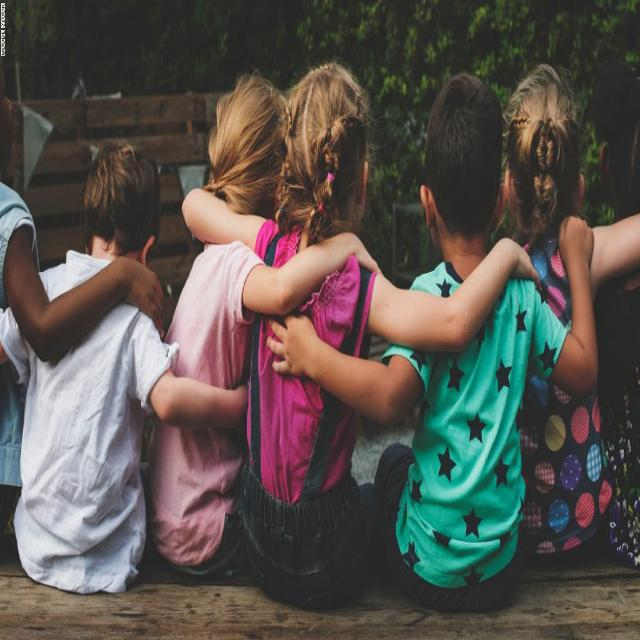child: (179, 62, 542, 599), (266, 73, 596, 612), (145, 80, 377, 576), (13, 144, 246, 599), (0, 54, 166, 565), (504, 62, 640, 565), (597, 62, 640, 572)
